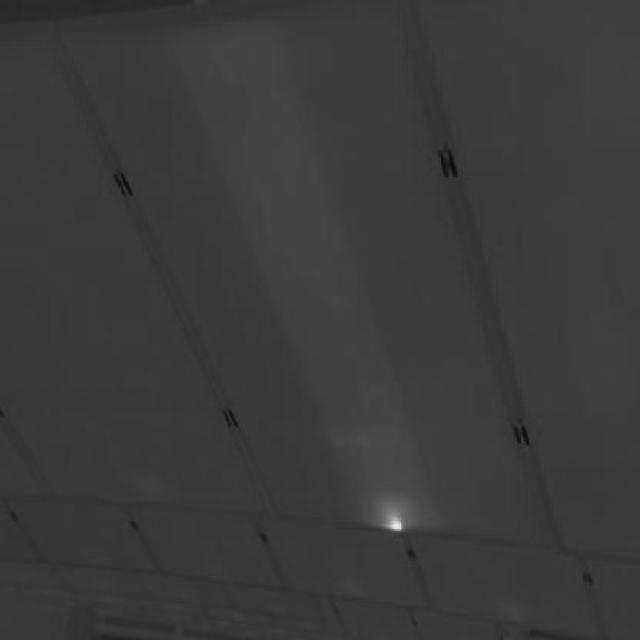hotspot: (382, 514, 412, 532)
